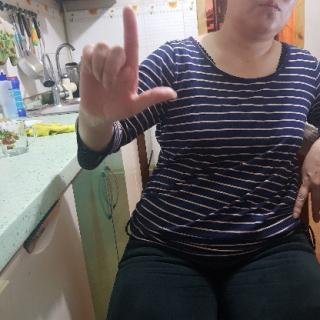LAAM: (76, 3, 182, 120)
